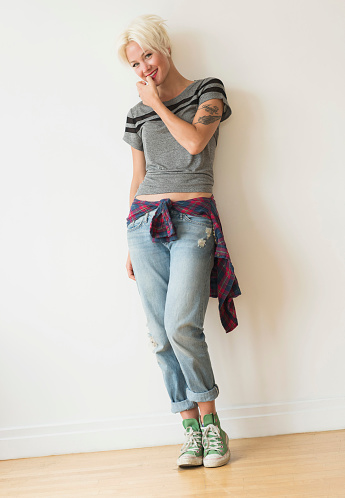em pe: (96, 0, 255, 461)
